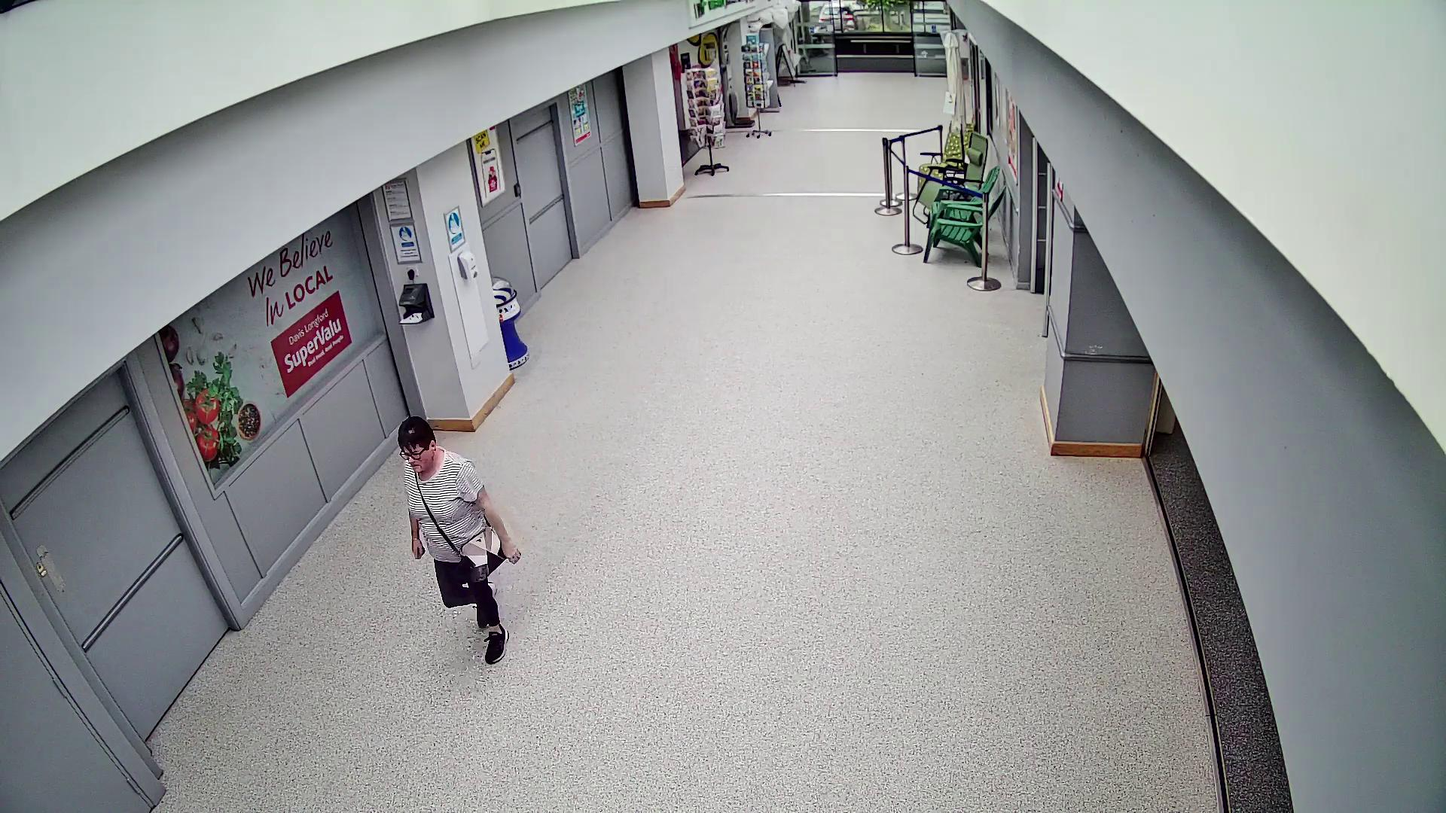backpack-or-handbag: (459, 524, 511, 584)
person: (398, 417, 522, 664)
person-with-backpack-handbag: (399, 417, 522, 664)
